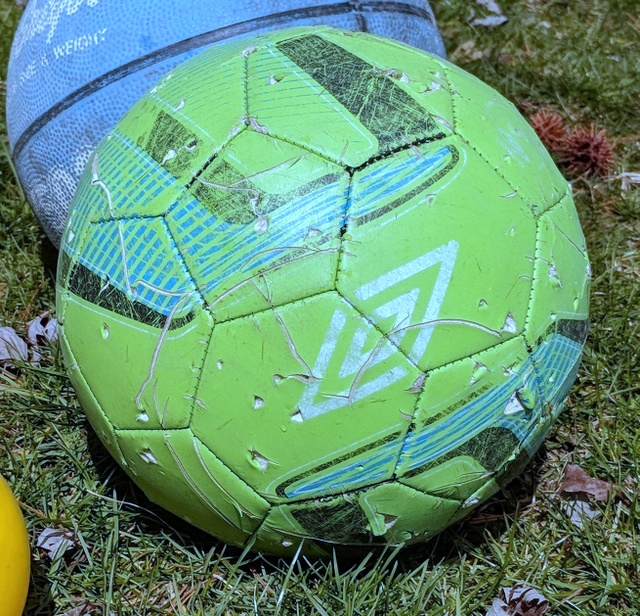ball: (54, 21, 591, 563)
